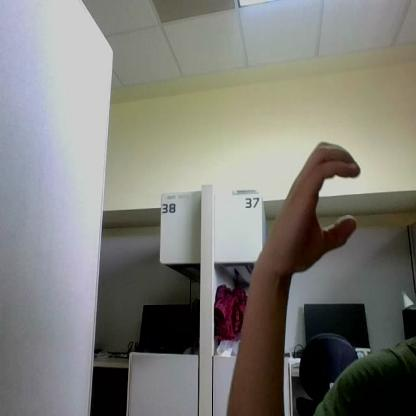C: (278, 142, 360, 273)
